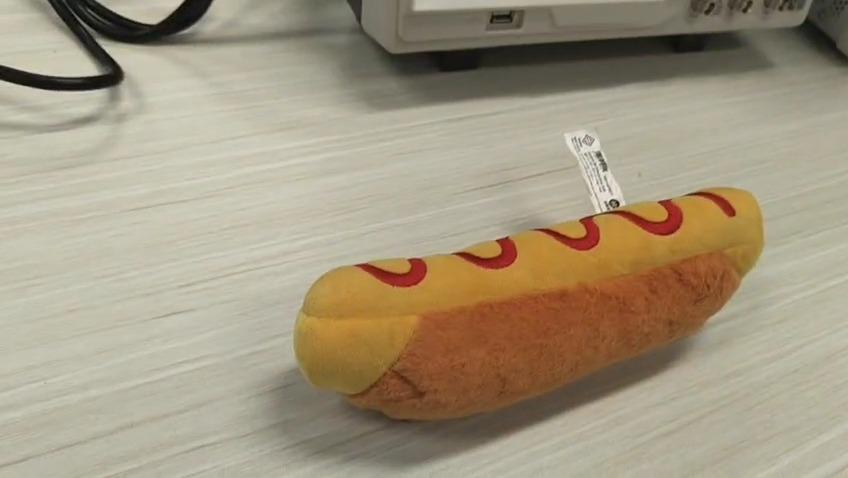hotdog: (292, 184, 765, 422)
